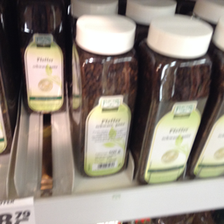spices: (135, 14, 214, 182), (72, 14, 139, 178)
